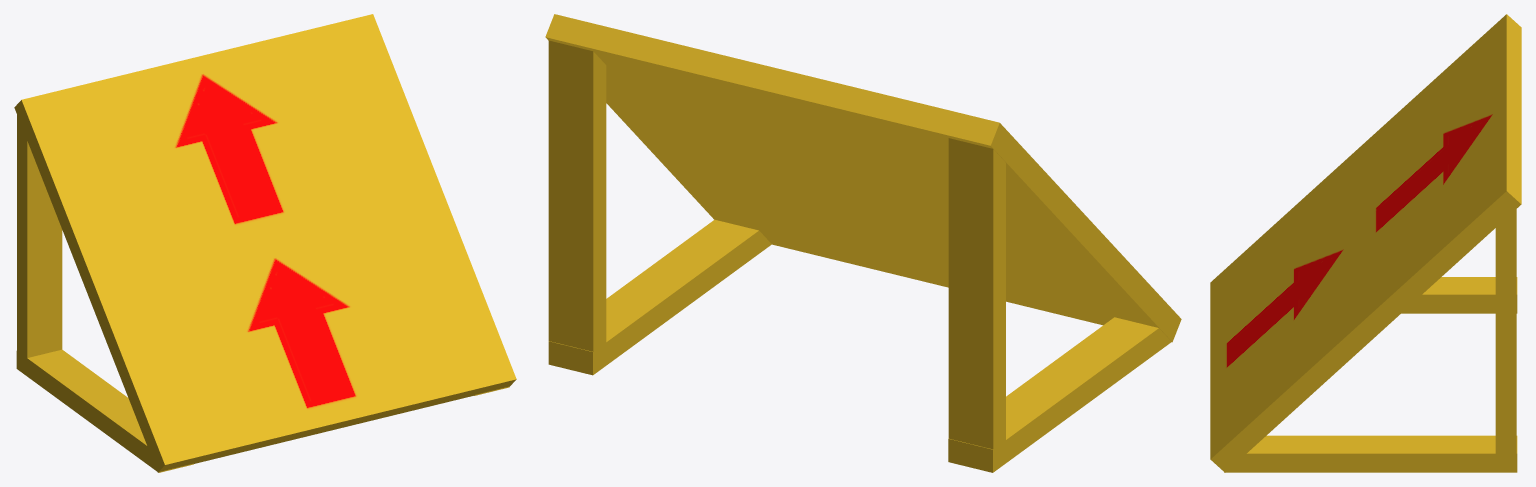
Rendered from jumpingboard.fbx.
3 renders of one model, left to right at view 1: azimuth 30°, elevation 25°; view 2: azimuth 150°, elevation 25°; view 3: azimuth 270°, elevation 25°, orthographic. The views are drawn at different scales.
Parts seen in each view (by area): view 1: jumping board; view 2: jumping board; view 3: jumping board.
Boxes of the visible parts, x1,y1,x2,y2 form: jumping board: (14, 14, 516, 472); jumping board: (545, 14, 1181, 472); jumping board: (1210, 14, 1521, 472).
Bounding box in the file's own units: 2 × 1.48 × 1.48.
